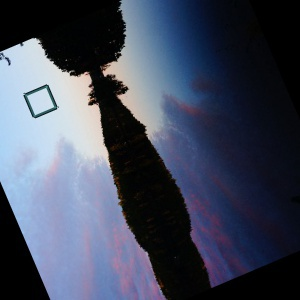square: (21, 83, 61, 118)
